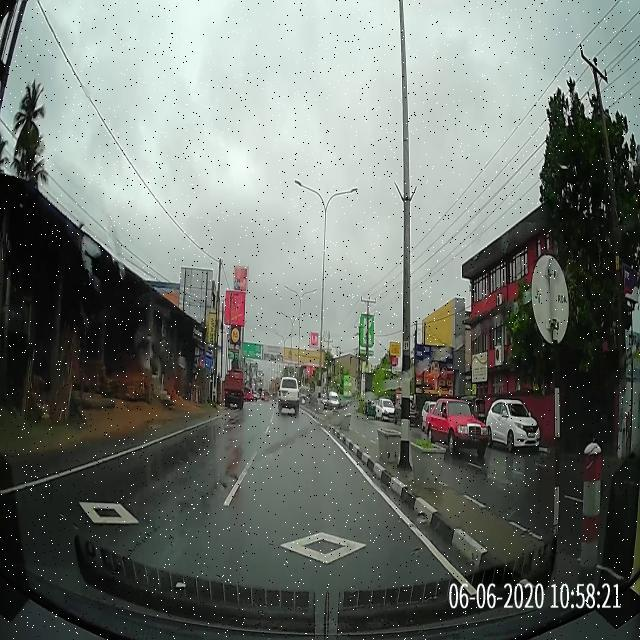diamond: (179, 494, 475, 583)
